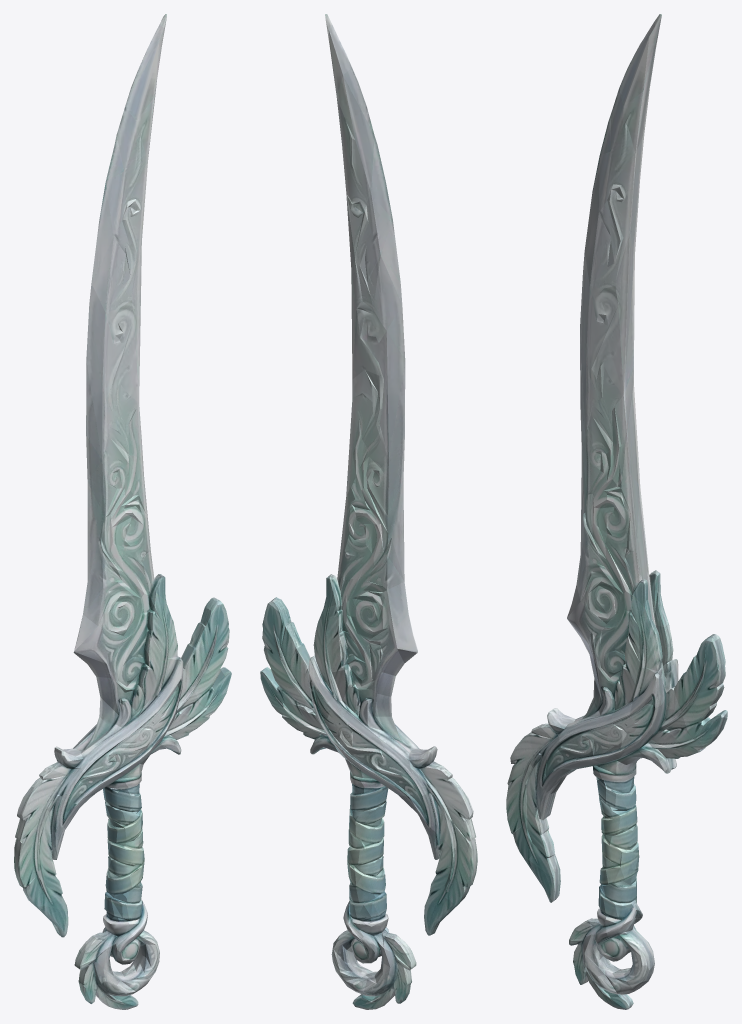
The model's file is epee_vent.glb.
The picture shows the model from 3 angles, left to right: view 1: azimuth 30°, elevation 25°; view 2: azimuth 150°, elevation 25°; view 3: azimuth 330°, elevation 25°; orthographic projection. The views are drawn at different scales.
Size of the model in its own units: 0.4311 by 1.9 by 0.0826.
Materials: 1 (1 with a texture image).
